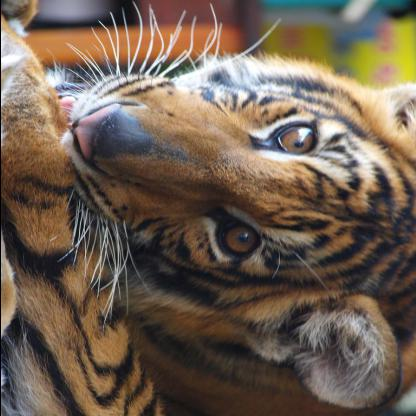tiger: (64, 29, 414, 387)
